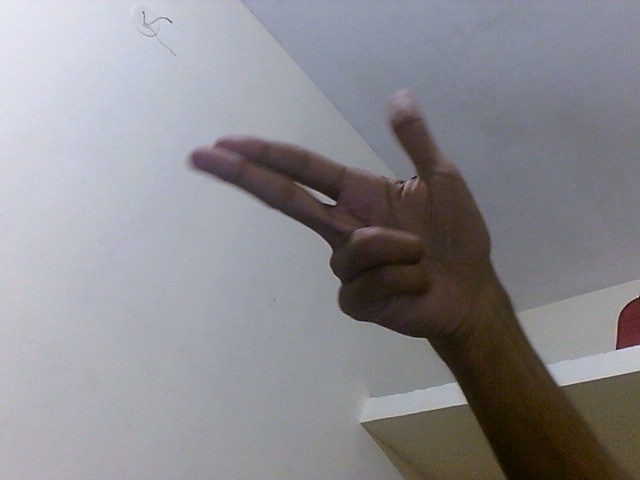hand: (186, 83, 502, 360)
